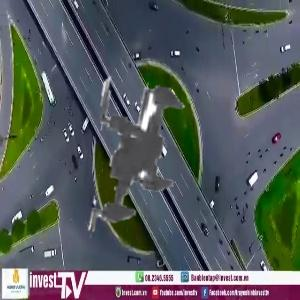drone: (8, 12, 294, 298)
